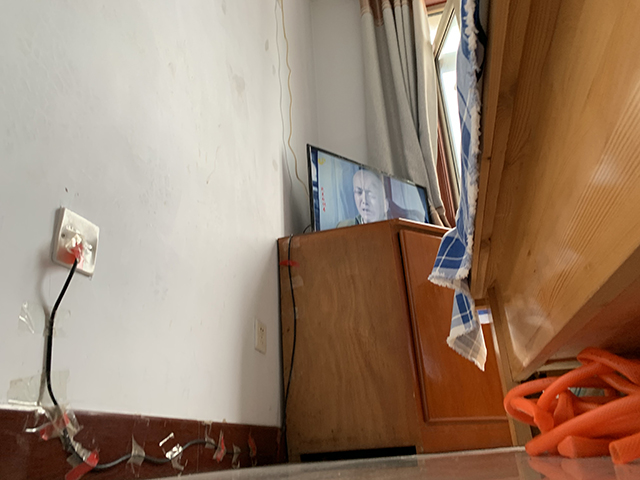bed: (427, 3, 640, 449)
cabinet: (275, 216, 515, 464)
wire: (44, 224, 312, 475)
